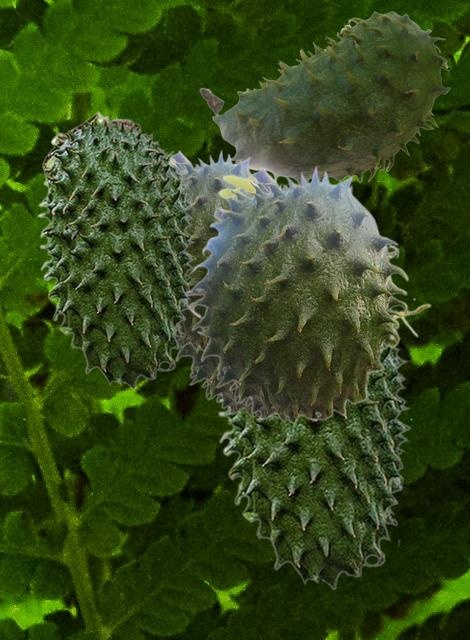guyabano: (187, 164, 431, 424), (215, 336, 411, 589), (37, 110, 196, 389), (199, 11, 450, 184), (175, 182, 283, 417), (171, 148, 251, 351)
